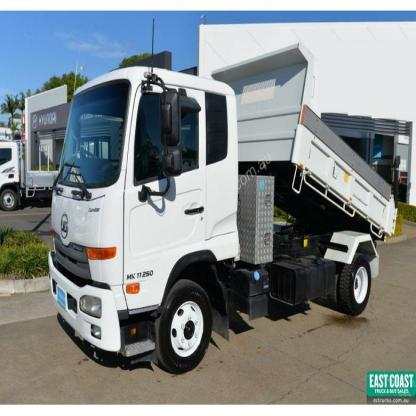dump_truck: (40, 38, 399, 374)
